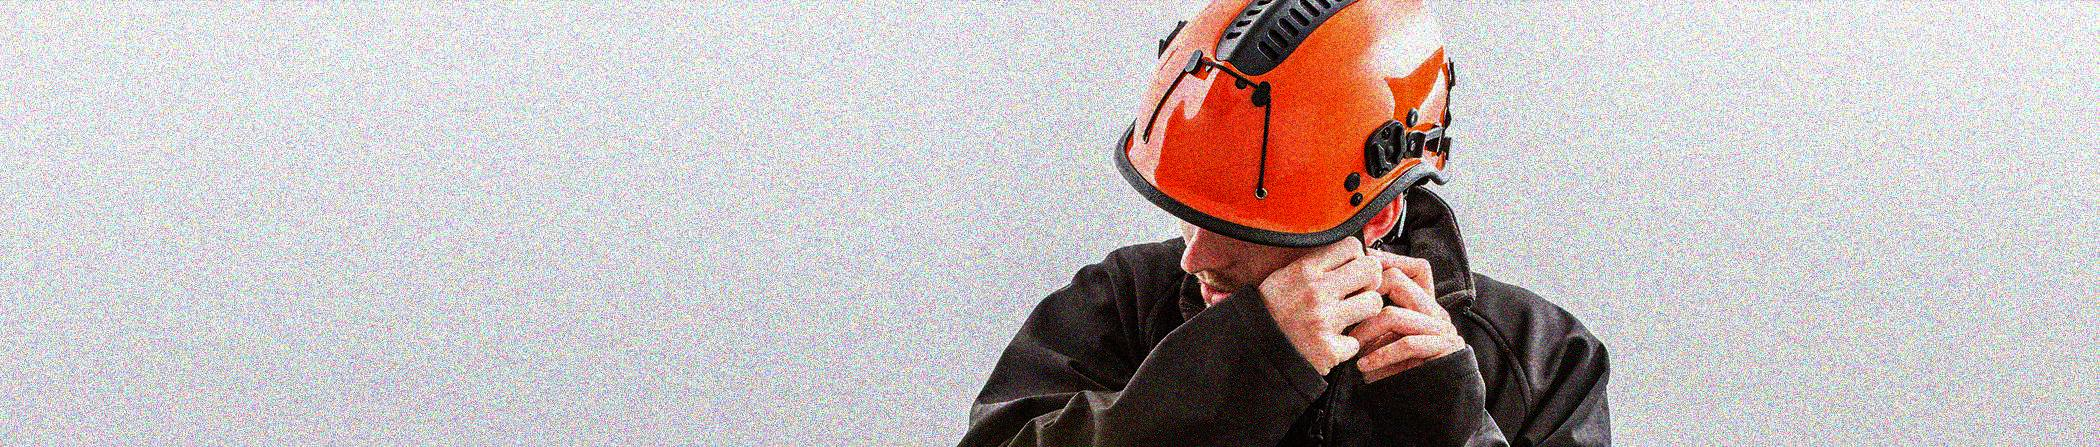helmet: (1116, 1, 1462, 304)
